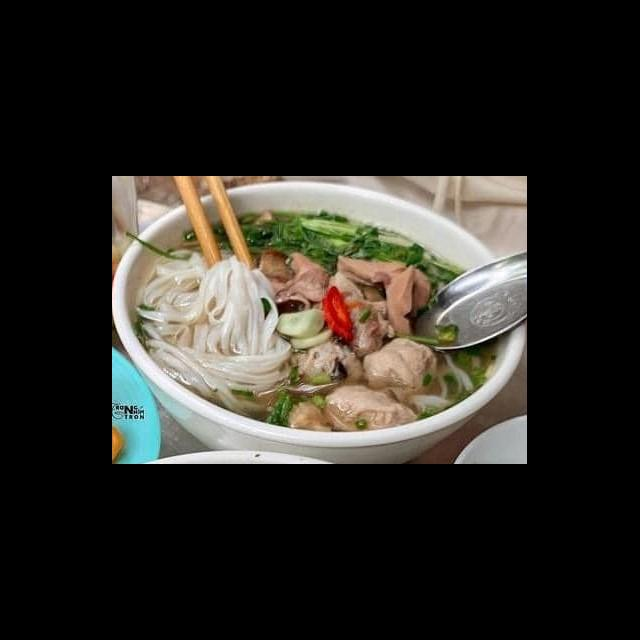bun: (136, 248, 292, 416)
vien moc: (358, 331, 446, 396), (322, 378, 418, 437), (288, 334, 368, 388)
